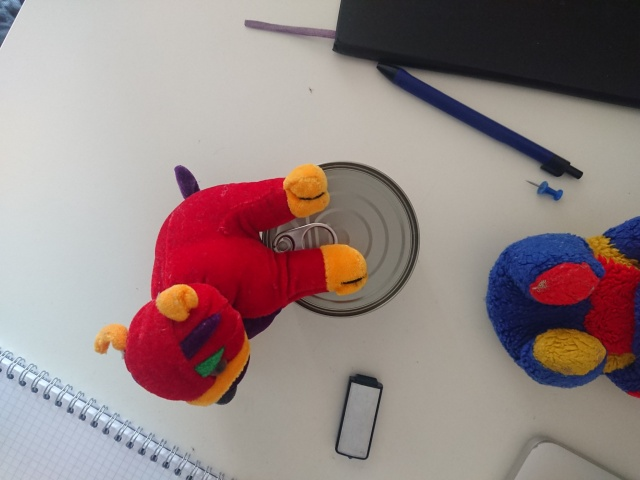Giana Tuna Salad Mexico 185g: (260, 157, 421, 321)
